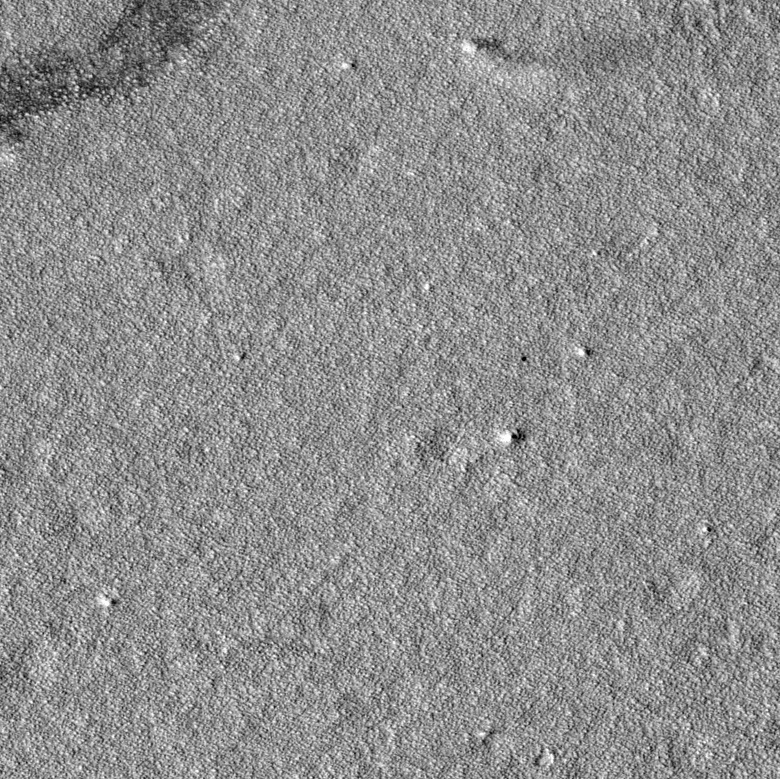dust_devil: (459, 33, 575, 70)
